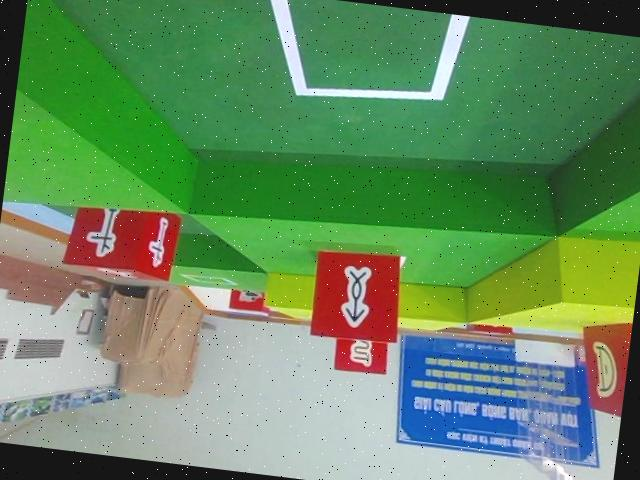R2 Fake: (329, 322, 394, 381)
R2 Real: (59, 188, 184, 290), (301, 241, 410, 350), (570, 310, 633, 424)
